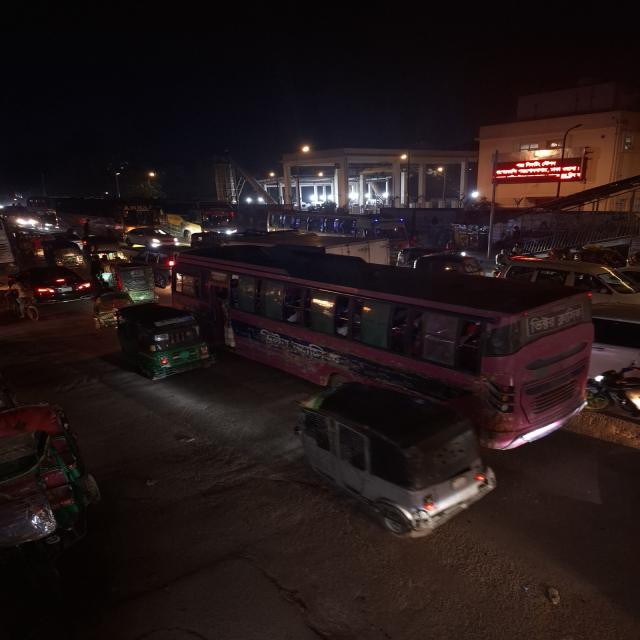bus: (173, 239, 609, 435)
car: (12, 263, 93, 302), (121, 226, 178, 249)
cng: (288, 388, 495, 536), (114, 305, 210, 381), (111, 262, 159, 302), (40, 239, 86, 267), (85, 234, 121, 258)
motorcycle: (597, 358, 640, 428)
rickshaw: (0, 397, 104, 567), (89, 290, 132, 329)
